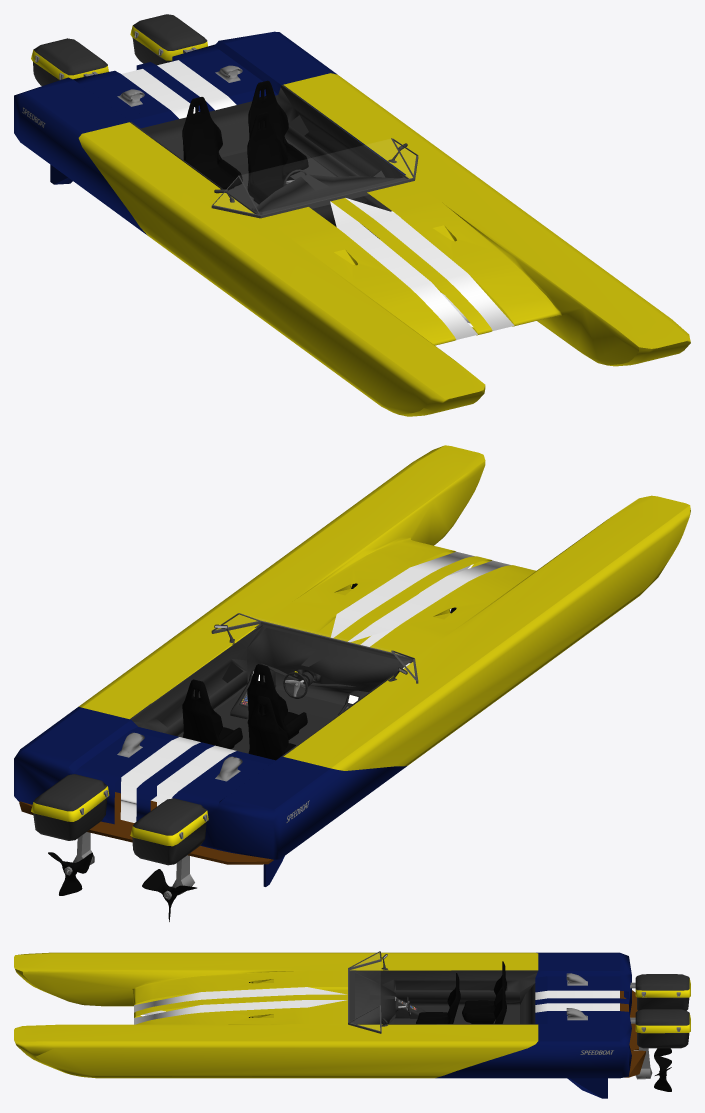
The model's file is sf_speedboat1.glb.
3 views of the same model, one above another, from view 1: azimuth 30°, elevation 25°; view 2: azimuth 150°, elevation 25°; view 3: azimuth 270°, elevation 25° (orthographic). The views are drawn at different scales.
Parts seen in each view (by area): view 1: pCube1_phong2_0; view 2: pCube1_phong2_0; view 3: pCube1_phong2_0.
Part boxes in pixels (left/top/right/bottom): pCube1_phong2_0: left=14, top=14, right=690, bottom=416; pCube1_phong2_0: left=14, top=445, right=690, bottom=921; pCube1_phong2_0: left=14, top=951, right=690, bottom=1098.
Bounding box in the file's own units: 2.61 × 1.29 × 8.
Materials: 5 (5 with a texture image).
